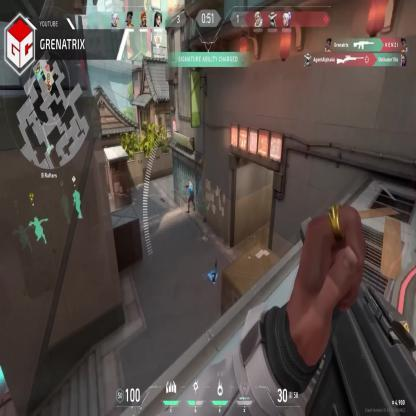enemy: (187, 180, 195, 215)
enemy_head: (189, 181, 191, 186)
